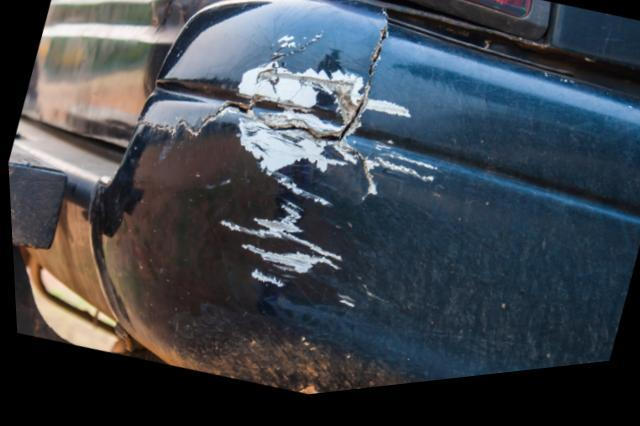crack: (136, 32, 388, 153)
scratch: (213, 102, 436, 311), (228, 55, 364, 142)
